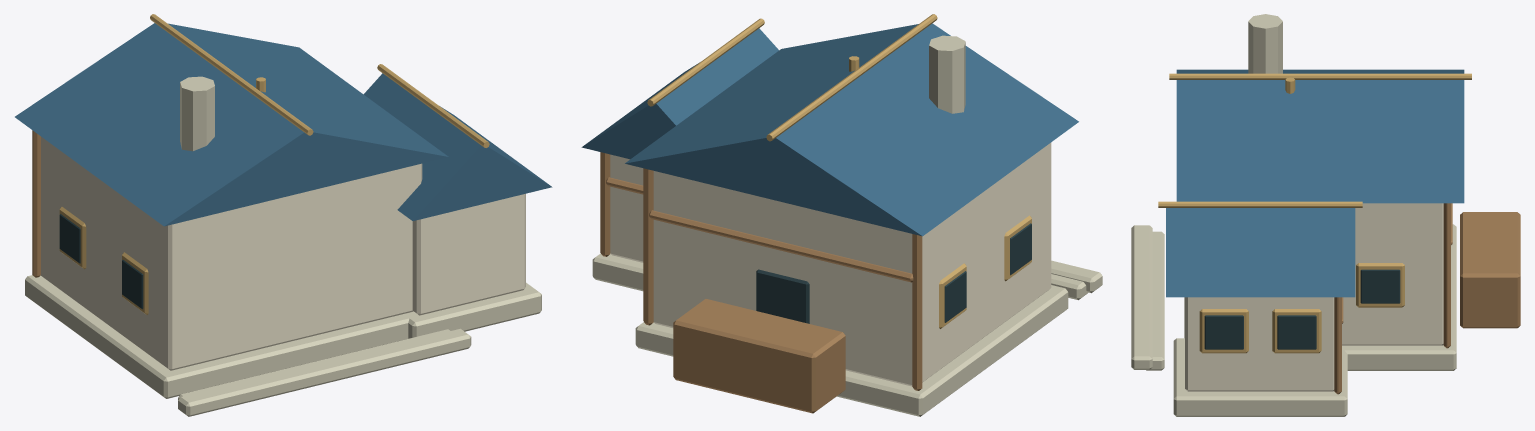
The model's file is level_13.glb.
The picture shows the model from 3 angles, left to right: view 1: azimuth 30°, elevation 25°; view 2: azimuth 150°, elevation 25°; view 3: azimuth 270°, elevation 25°; orthographic projection. The views are drawn at different scales.
Parts seen in each view (by area): view 1: workshop — level 13; view 2: workshop — level 13; view 3: workshop — level 13.
Boxes of the visible parts, bbox=[...] form: workshop — level 13: bbox=[15, 14, 552, 416]; workshop — level 13: bbox=[581, 14, 1102, 416]; workshop — level 13: bbox=[1131, 14, 1520, 416].
Bounding box in the file's own units: 5.62 × 3.75 × 5.14.
